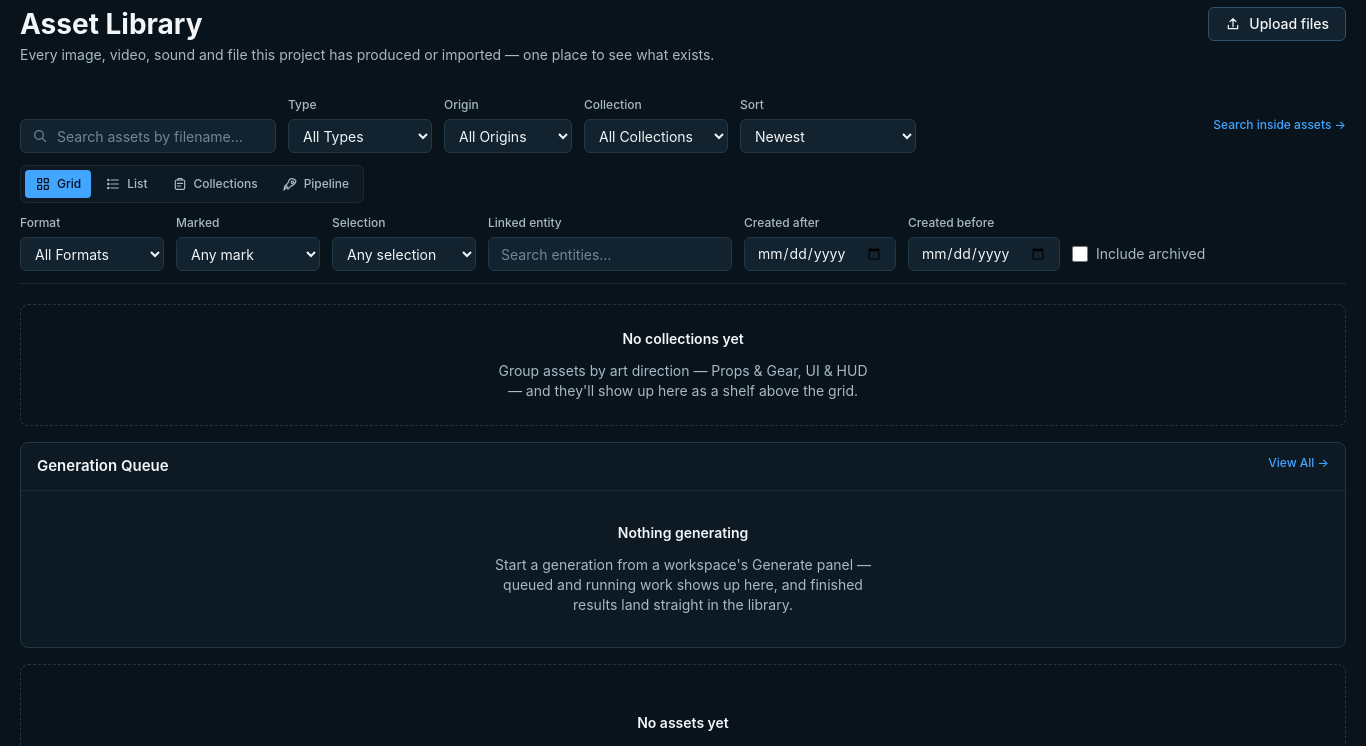
Assets workspace › includes archived assets, badged Archived, once the toolbar checkbox is checked
The image size is (1366, 746).
Expected: the text "No assets yet" is shown, [637,712,729,732]
What coordinates should you click on to do the following:
click the checkbox labelled "Include archived"
I would click on:
 (1080, 254)
Its box is [1072,246,1088,262].
(page scrolled)
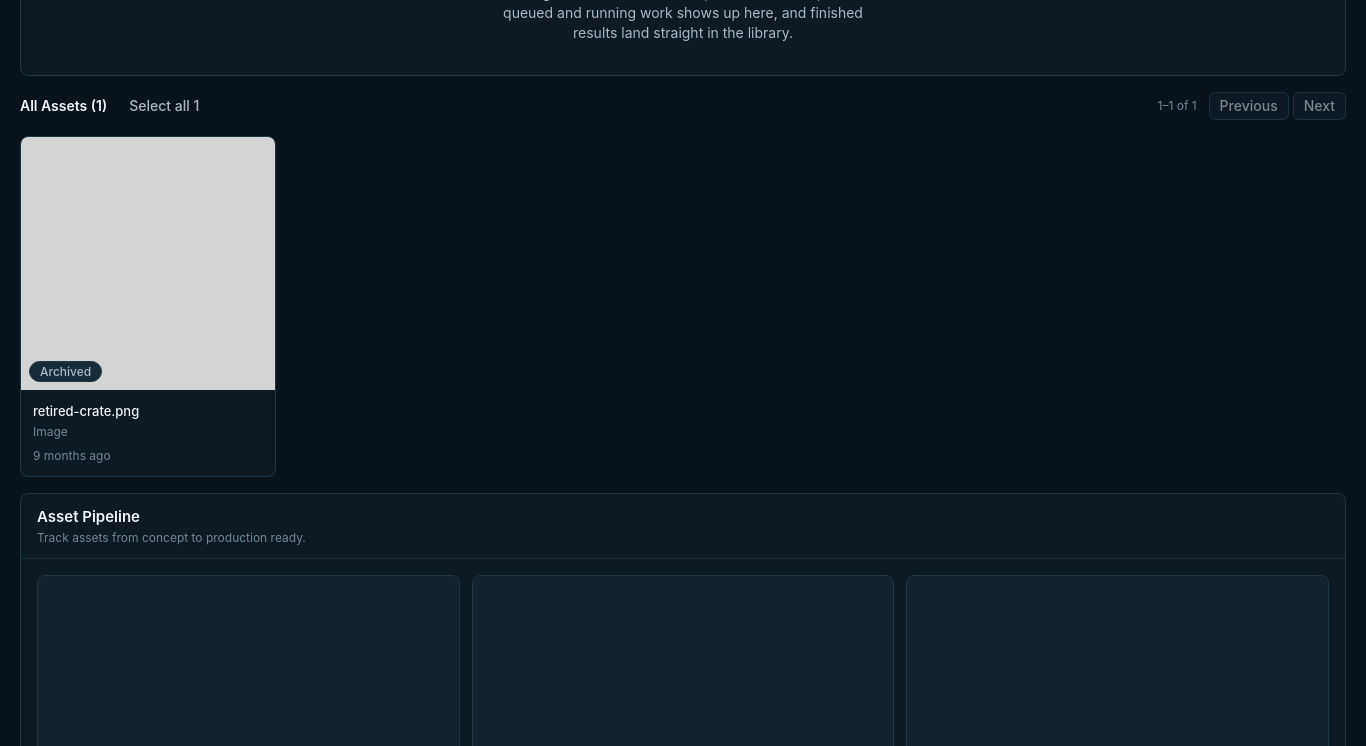
Now the text "retired-crate.png" is shown, box [33,403,139,419]
Now the text "Archived" is shown, box [29,361,102,382]
